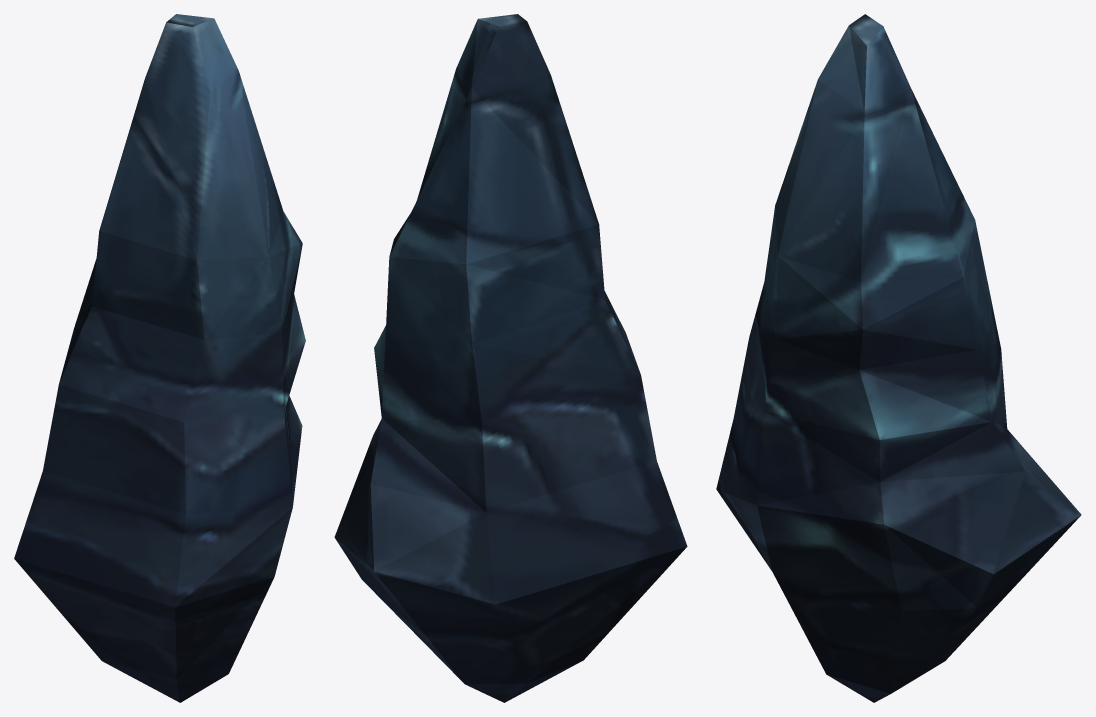
Rendered from H_Maze_shitou08.FBX.
The picture shows the model from 3 angles, left to right: view 1: azimuth 30°, elevation 25°; view 2: azimuth 150°, elevation 25°; view 3: azimuth 270°, elevation 25°; orthographic projection.
Parts seen in each view (by area): view 1: shitou08; view 2: shitou08; view 3: shitou08.
Part boxes in pixels (<box>): shitou08: <box>14,14,305,702</box>; shitou08: <box>334,14,687,702</box>; shitou08: <box>716,14,1081,702</box>.
Bounding box in the file's own units: 95.76 × 207 × 101.
